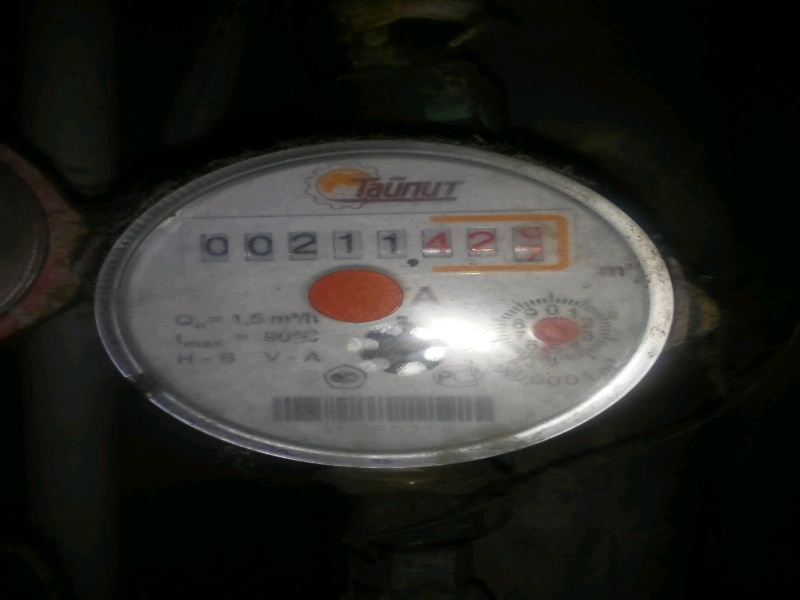meter: (187, 219, 574, 270)
